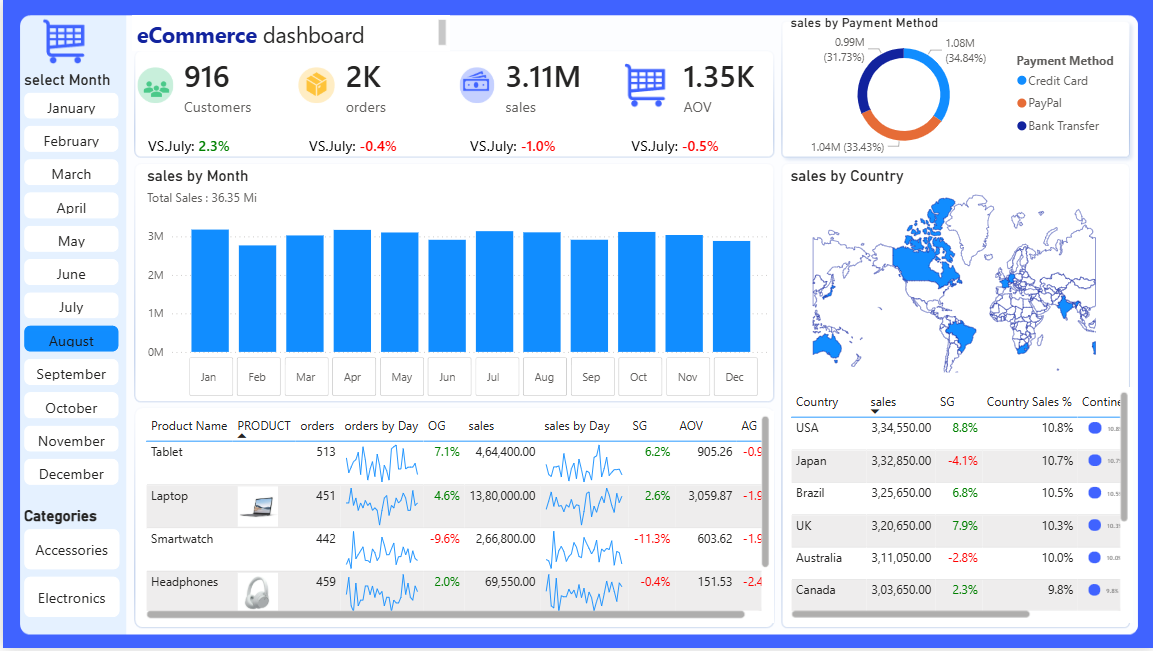

This screenshot's page, from the dashboard's own definition file:
{"tool":"powerbi","page":{"name":"Page 1","canvas":[1280,720],"ordinal":0},"visuals":[{"type":"cardVisual","fields":{"Data":["Calendar.Customers","Calendar.orders","Calendar.sales","Calendar.AOV"]},"box":[120,46.7,750,158.3],"z":0},{"type":"advancedSlicerVisual","title":"select Month","fields":{"Values":["Calendar.Month"]},"box":[18.3,78.3,115,471.7],"z":1000},{"type":"advancedSlicerVisual","title":"Categories","fields":{"Values":["dimproduct.Category"]},"box":[18.3,563.3,116.7,128.3],"z":2000},{"type":"donutChart","fields":{"Y":["Calendar.sales"],"Category":["dimPayment Method.Payment Method"]},"box":[870,16.7,385,160],"z":3000},{"type":"clusteredColumnChart","fields":{"Y":["Calendar.sales"],"Category":["Calendar.Month"]},"box":[155,185,701.7,220],"z":4000},{"type":"advancedSlicerVisual","fields":{"Values":["Month Param.Month Param"],"Label":["Month Param.Month Param Value"]},"box":[201.7,391.7,653.3,53.3],"z":5000},{"type":"tableEx","fields":{"Values":["dimproduct.Product Name","dimproduct.Img","Calendar.orders","SparklineData(Calendar.orders_[Calendar.Day])","Calendar.orders growth","Calendar.sales","SparklineData(Calendar.sales_[Calendar.Day])","Calendar.sales growth","Calendar.AOV","Calendar.AOV growth"]},"box":[152.7,456.5,703.1,235.4],"z":6000},{"type":"shapeMap","fields":{"Value":["Calendar.sales"],"Category":["factECommerce.Country"]},"box":[870,185,373.3,233.3],"z":7000},{"type":"tableEx","fields":{"Values":["factECommerce.Country","Calendar.sales","Calendar.sales growth","factECommerce.Country Sales %","factECommerce.Continent Rounded Bar Chart"]},"box":[870,430,385,261.7],"z":8000},{"type":"textbox","box":[143.3,16.7,353.3,40],"z":9000},{"type":"image","box":[18.3,16.7,101.7,58.3],"z":10000}]}

Visuals, with their boxes in screenshot pixels (x1, y1, x2, y2), scaled from the page's 1280x720 canvas onto the 1153x651 screenshot:
cardVisual - Calendar.Customers x Calendar.orders: box=[108, 42, 784, 185]
"select Month" advancedSlicerVisual: box=[16, 71, 120, 497]
"Categories" advancedSlicerVisual: box=[16, 509, 122, 625]
donutChart - Calendar.sales x dimPayment Method.Payment Method: box=[784, 15, 1130, 160]
clusteredColumnChart - Calendar.sales x Calendar.Month: box=[140, 167, 772, 366]
advancedSlicerVisual - Month Param.Month Param x Month Param.Month Param Value: box=[182, 354, 770, 402]
tableEx - dimproduct.Product Name x dimproduct.Img: box=[138, 413, 771, 626]
shapeMap - Calendar.sales x factECommerce.Country: box=[784, 167, 1120, 378]
tableEx - factECommerce.Country x Calendar.sales: box=[784, 389, 1130, 625]
textbox: box=[129, 15, 447, 51]
image: box=[16, 15, 108, 68]
